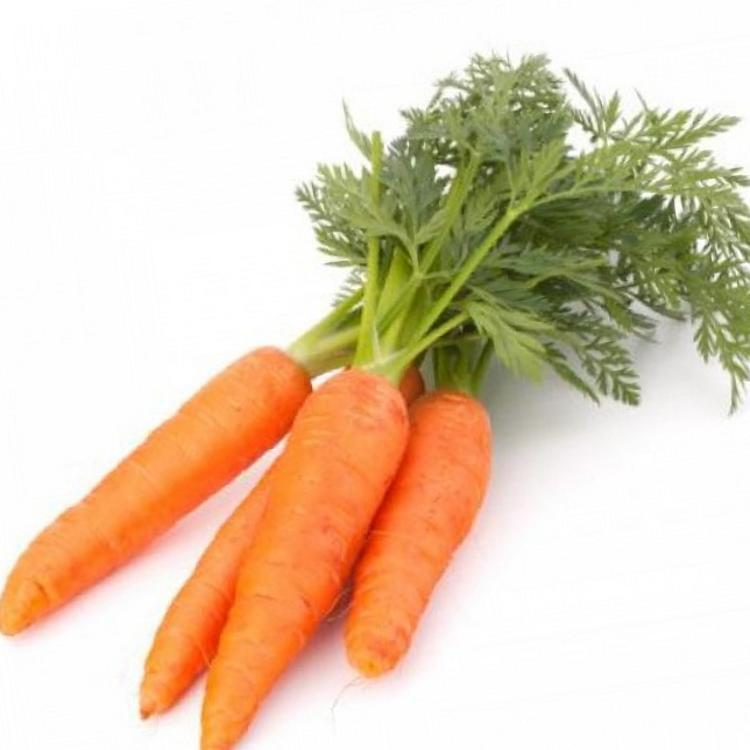carrot: (104, 274, 502, 730), (285, 76, 545, 676), (0, 357, 514, 658)
